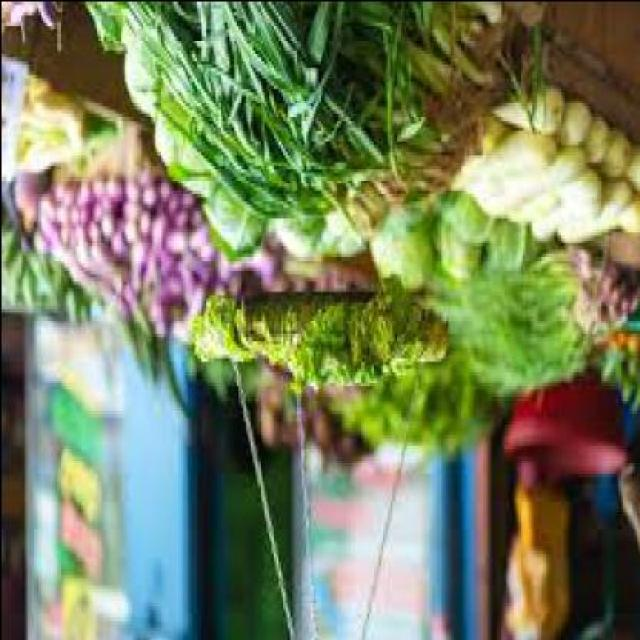BIODEGRADABLE: (84, 3, 501, 255), (442, 94, 638, 248), (30, 182, 202, 343), (466, 252, 614, 396), (328, 357, 494, 445), (365, 209, 524, 291), (0, 181, 98, 307), (179, 356, 410, 402), (160, 259, 372, 293), (573, 242, 638, 343), (598, 329, 638, 413)
